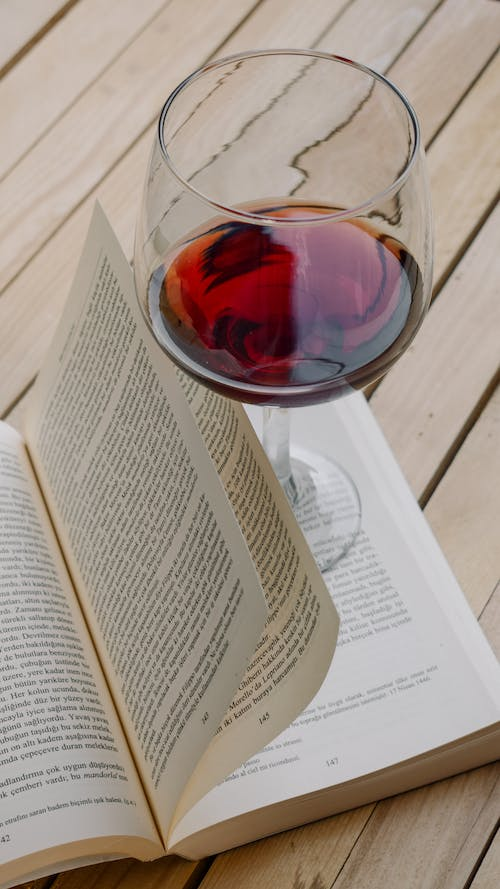alcohol: (129, 44, 436, 577)
